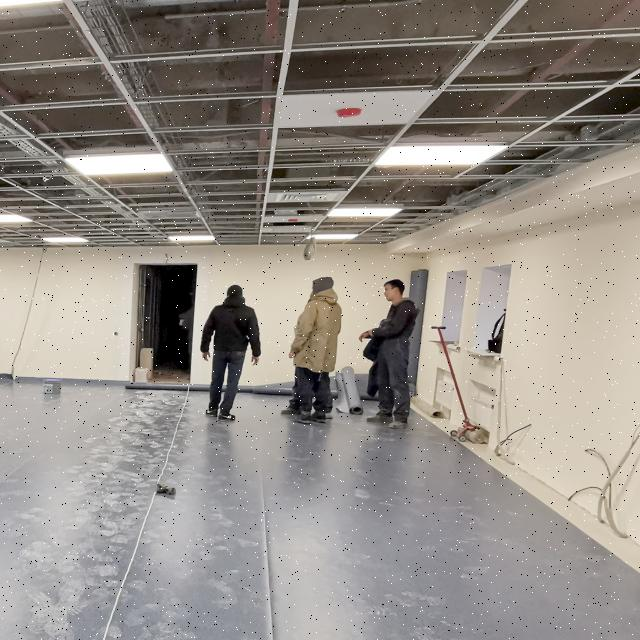NoHelmet: (383, 279, 407, 303), (312, 277, 336, 295), (226, 285, 246, 301)
